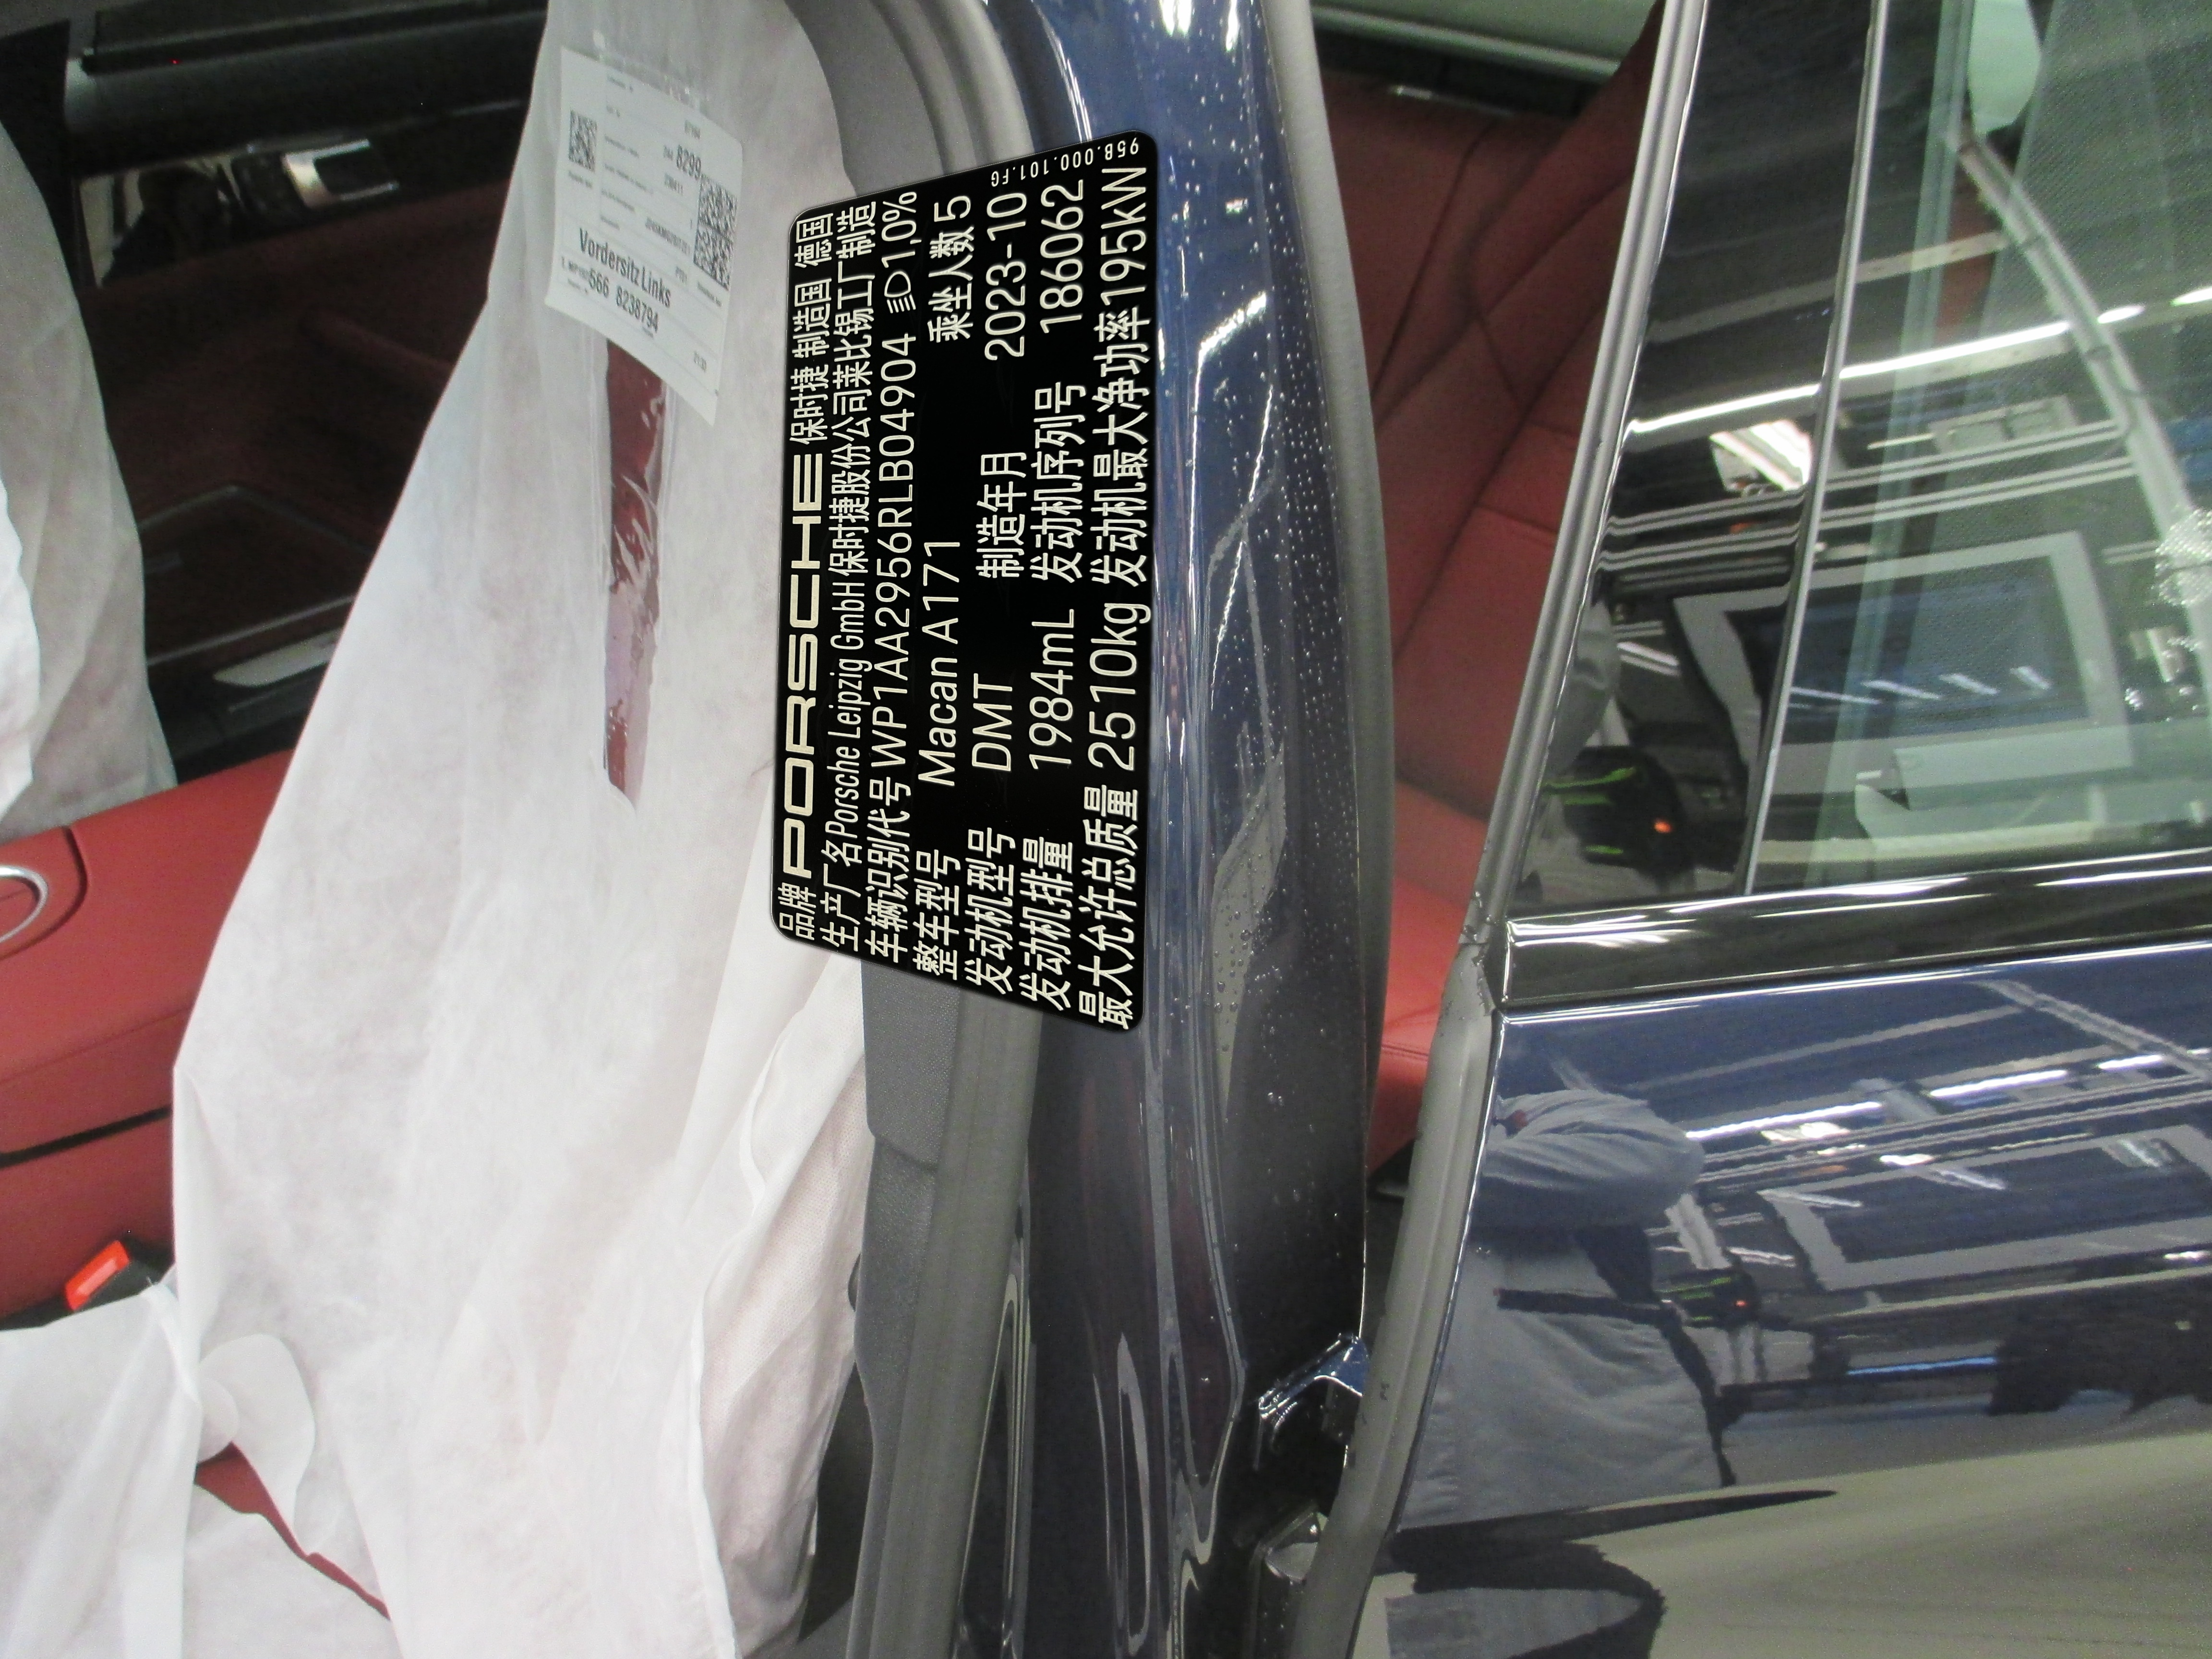Typlabel-China: (772, 131, 1158, 1032)
